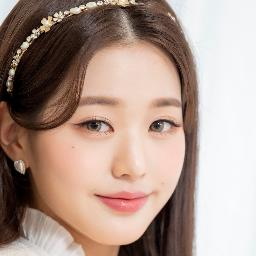face: (52, 51, 184, 243)
